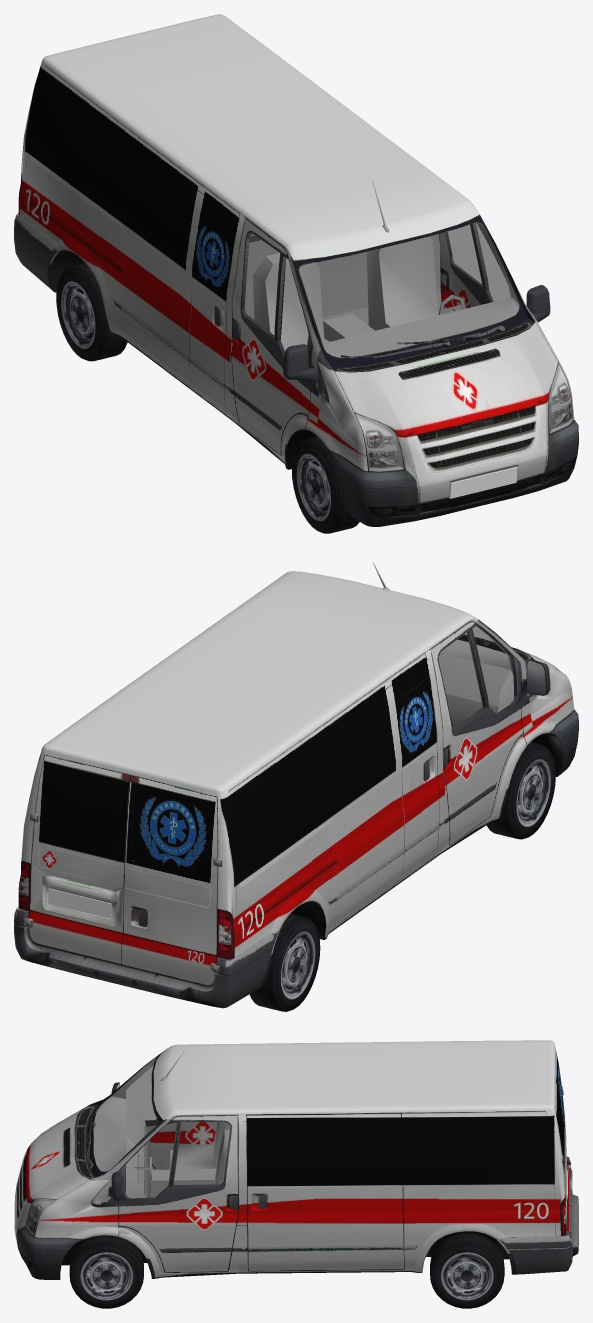
Rendered from ambulance.obj.
3 renders of one model, top to bottom at view 1: azimuth 30°, elevation 25°; view 2: azimuth 150°, elevation 25°; view 3: azimuth 270°, elevation 25°, orthographic. The views are drawn at different scales.
Visible parts, largest first — view 1: Body, RightDoor, LeftDoor, BR, FR; view 2: Body, RightDoor, BR, FR; view 3: Body, LeftDoor, BL, FL, RightDoor.
Boxes of the visible parts, x1,y1,x2,y2 form: Body: (14,14,578,526); RightDoor: (231,217,312,457); LeftDoor: (438,223,510,309); BR: (56,263,127,361); FR: (291,436,359,533); Body: (14,562,578,1008); RightDoor: (430,618,523,846); BR: (249,913,320,1011); FR: (486,742,555,839); Body: (14,1040,578,1279); LeftDoor: (118,1114,238,1272); BL: (430,1233,504,1308); FL: (69,1235,143,1308); RightDoor: (126,1067,216,1169).
Bounding box in the file's own units: 0.2433 × 0.2507 × 0.5878.
